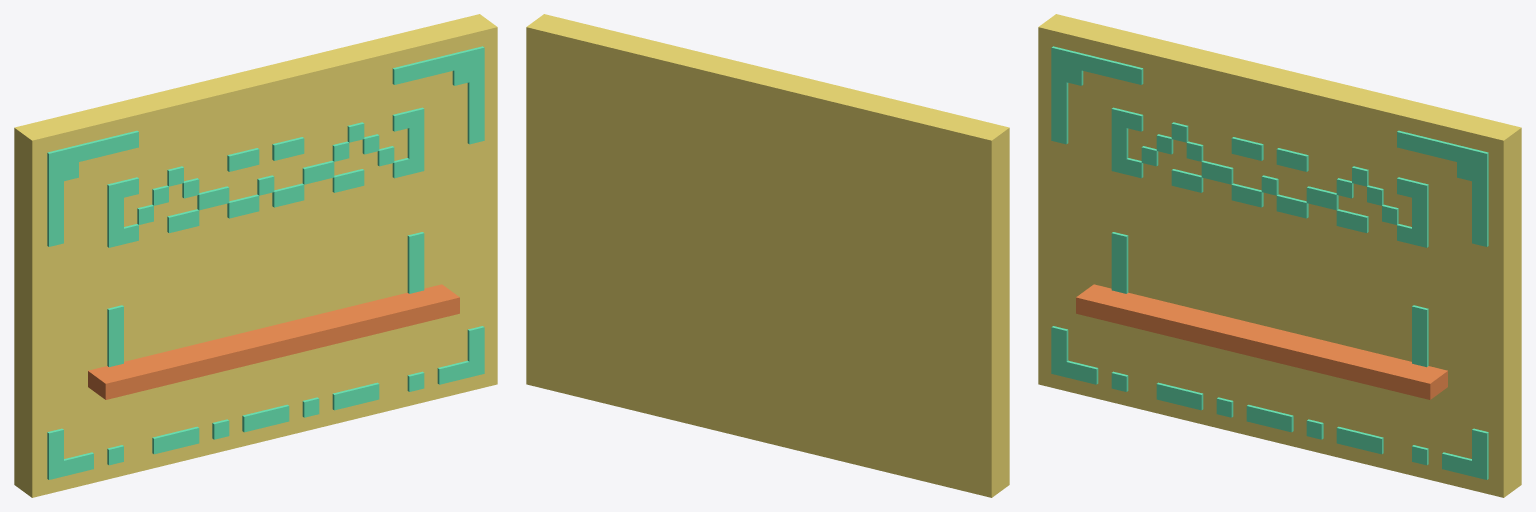
File: Wall02.fbx
3 views of the same model, side by side, from view 1: azimuth 30°, elevation 25°; view 2: azimuth 150°, elevation 25°; view 3: azimuth 330°, elevation 25° (orthographic).
Parts seen in each view (by area): view 1: Wall_dor.001, Wall_dor.002, shell_1.001; view 2: Wall_dor.001; view 3: Wall_dor.001, Wall_dor.002, shell_1.001.
Boxes of the visible parts, x1,y1,x2,y2 form: Wall_dor.001: (14, 14, 497, 497); Wall_dor.002: (47, 46, 484, 479); shell_1.001: (88, 284, 459, 399); Wall_dor.001: (526, 14, 1009, 497); Wall_dor.001: (1038, 14, 1521, 497); Wall_dor.002: (1051, 46, 1488, 479); shell_1.001: (1076, 284, 1447, 399).
Bounding box in the file's own units: 1500 × 1100 × 200.
